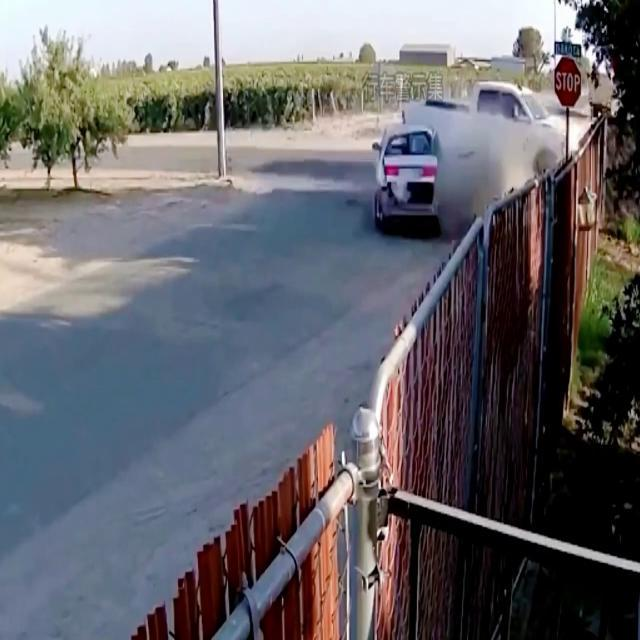multiple_accident: (353, 32, 625, 258)
